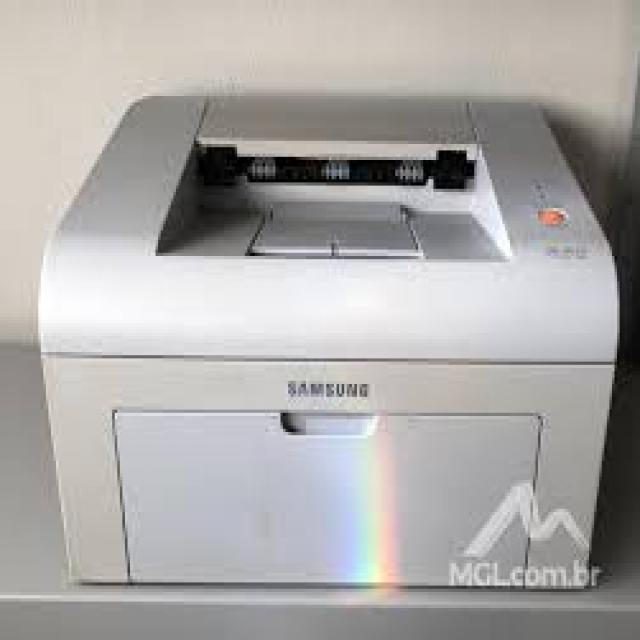printer: (39, 90, 621, 588)
